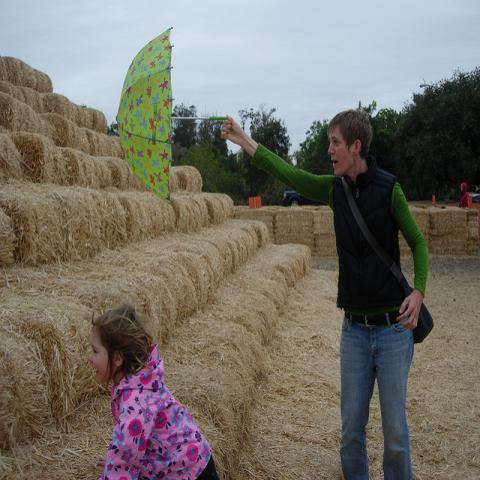car: (282, 190, 326, 207), (469, 189, 479, 203)
